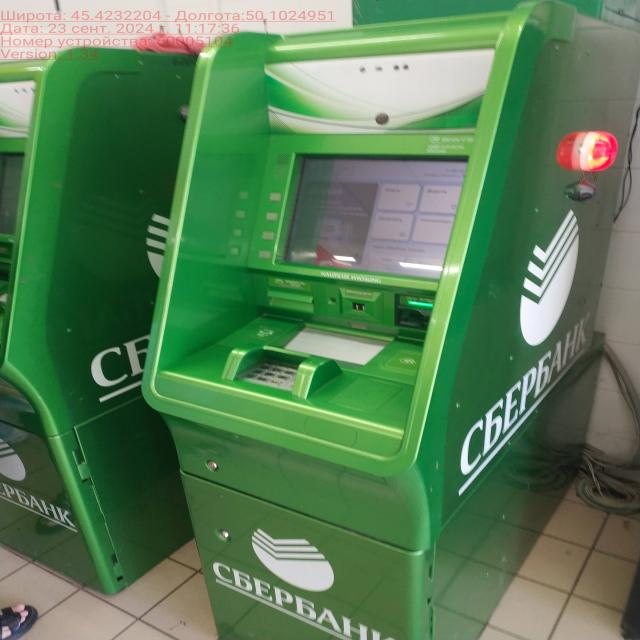bank: (136, 0, 640, 640), (0, 45, 259, 590)
